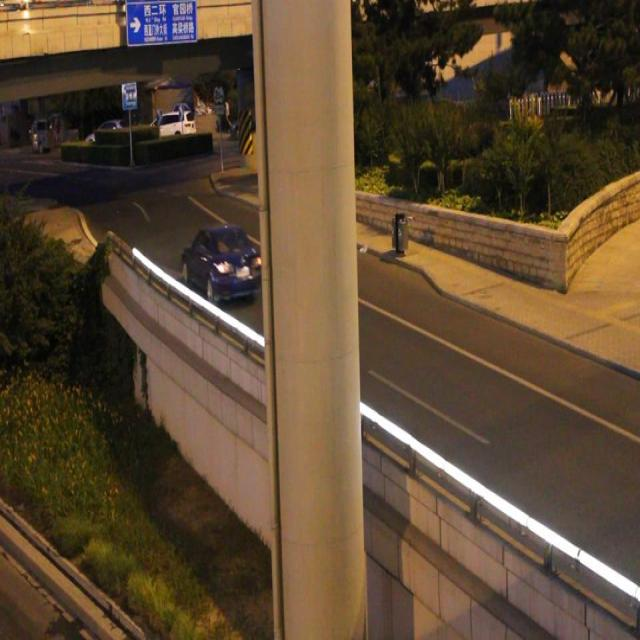car: (180, 222, 260, 302)
